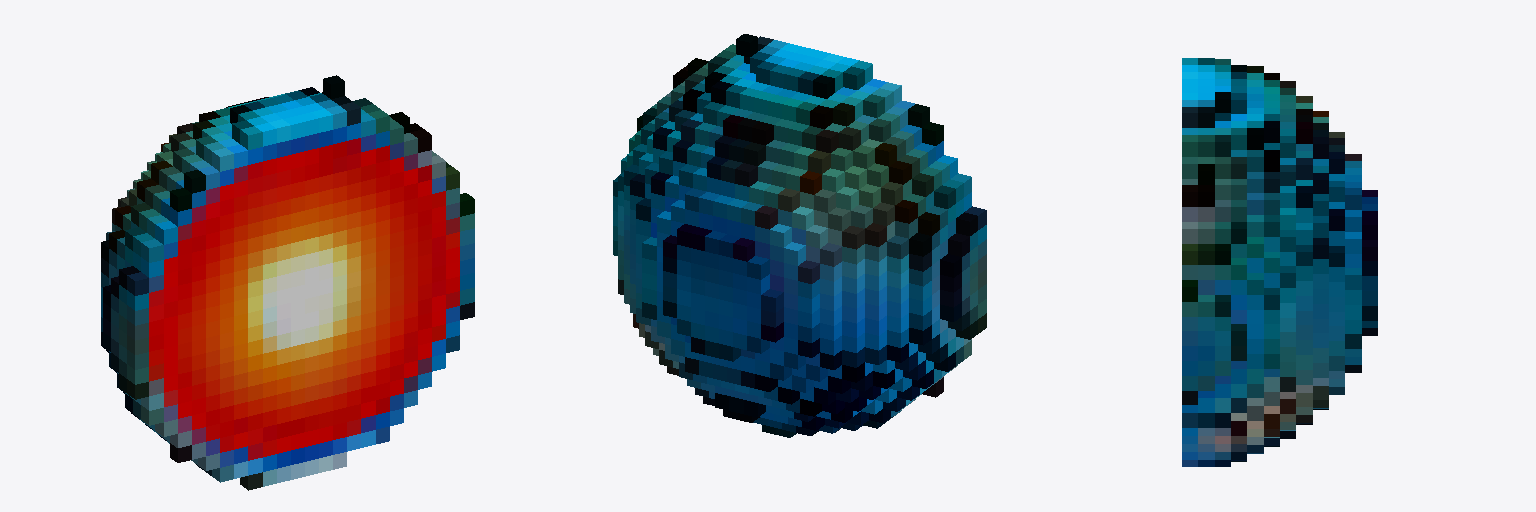
Rendered from regen_iter_0.obj.
3 renders of one model, left to right at view 1: azimuth 30°, elevation 25°; view 2: azimuth 150°, elevation 25°; view 3: azimuth 270°, elevation 25°, orthographic.
Visible parts, largest first — view 1: regen_iter_0; view 2: regen_iter_0; view 3: regen_iter_0.
Part boxes in pixels (x1,y1,x2,y2): regen_iter_0: (101, 75, 474, 490); regen_iter_0: (613, 34, 986, 437); regen_iter_0: (1182, 58, 1377, 466).
Bounding box in the file's own units: 2.4 × 2.5 × 1.2.